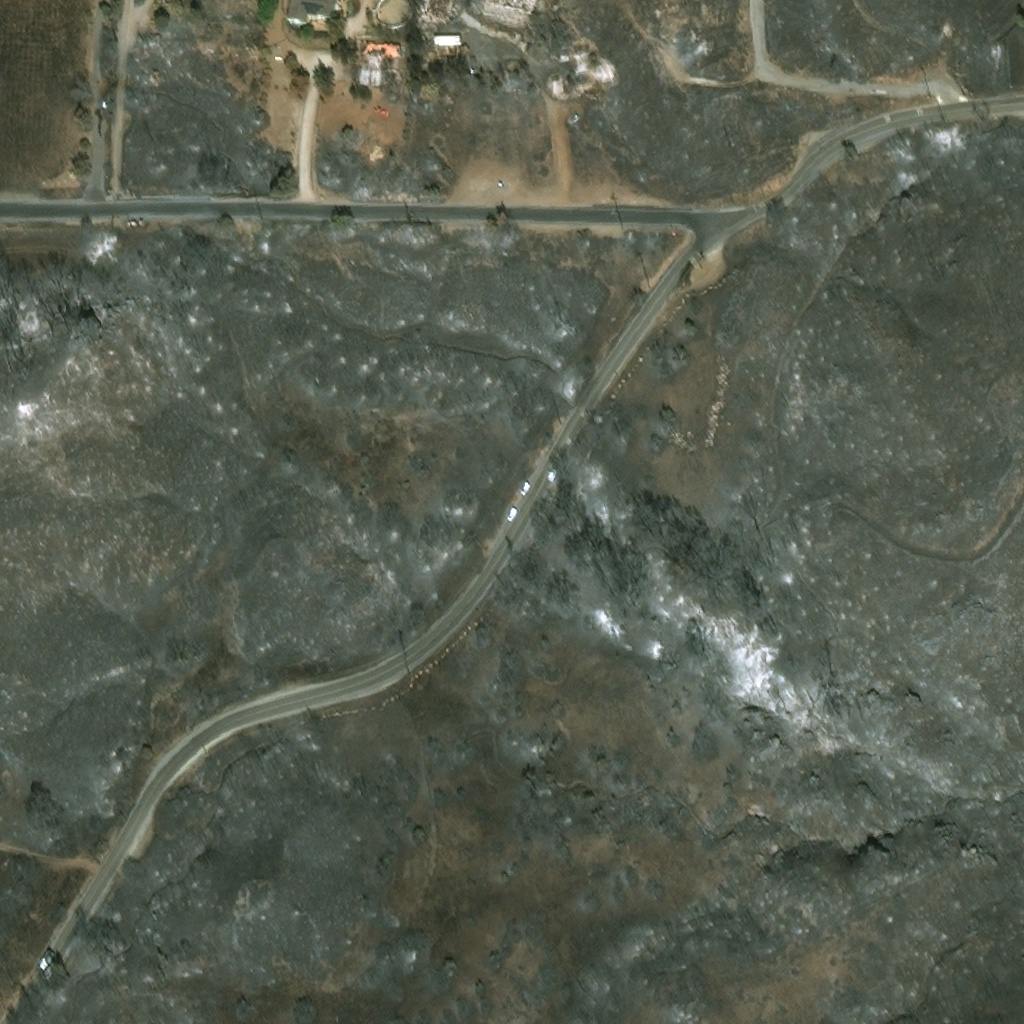1 minor-damage: (434, 37, 462, 45)
2 major-damage: (364, 41, 399, 65)
3 destroyed: (355, 67, 398, 84), (485, 0, 536, 11), (420, 0, 449, 19), (433, 59, 461, 68), (424, 22, 437, 32), (470, 59, 478, 73)
4 un-classified: (286, 0, 337, 23)
